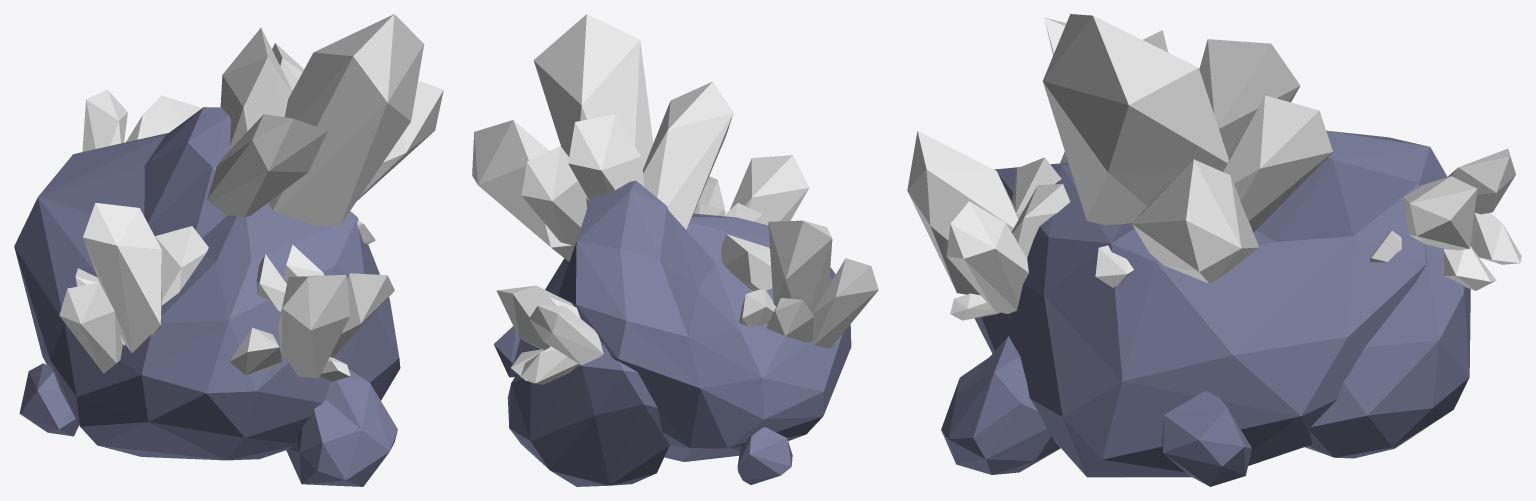
Rendered from Boulder_glowing.fbx.
3 renders of one model, left to right at view 1: azimuth 30°, elevation 25°; view 2: azimuth 150°, elevation 25°; view 3: azimuth 270°, elevation 25°, orthographic. The views are drawn at different scales.
Visible parts, largest first — view 1: Boulder.002, Crystall.001, Crystall.003, Crystall.004, Crystall.002; view 2: Boulder.002, Crystall.001, Crystall.003, Crystall.002, Crystall.004; view 3: Boulder.002, Crystall.001, Crystall.004, Crystall.002.
Part boxes in pixels (x1,y1,x2,y2): Boulder.002: [14, 107, 400, 486]; Crystall.001: [207, 14, 443, 244]; Crystall.003: [59, 202, 208, 373]; Crystall.004: [229, 245, 394, 381]; Crystall.002: [82, 89, 201, 151]; Boulder.002: [494, 180, 851, 486]; Crystall.001: [472, 14, 733, 261]; Crystall.003: [721, 220, 878, 348]; Crystall.002: [496, 285, 603, 384]; Crystall.004: [693, 155, 809, 225]; Boulder.002: [941, 130, 1470, 486]; Crystall.001: [1042, 14, 1332, 287]; Crystall.004: [907, 130, 1070, 320]; Crystall.002: [1369, 148, 1521, 290].
Size of the model in its own units: 331 by 319 by 345.
